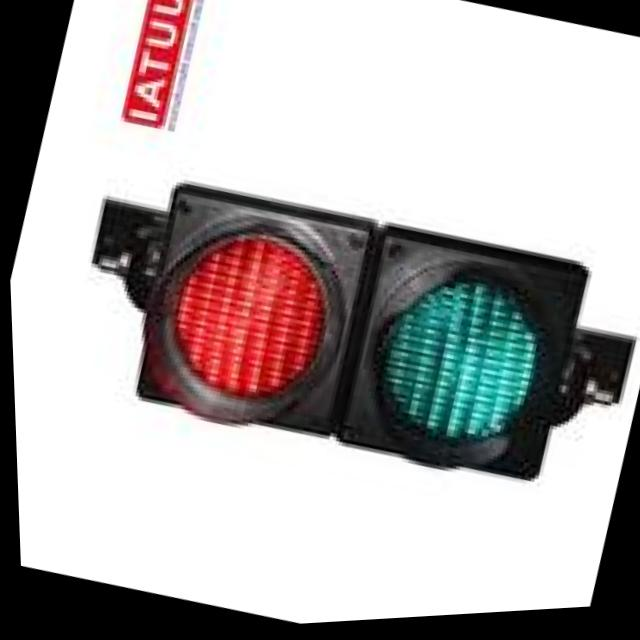green_light: (297, 137, 636, 611)
red_light: (102, 120, 394, 483)
